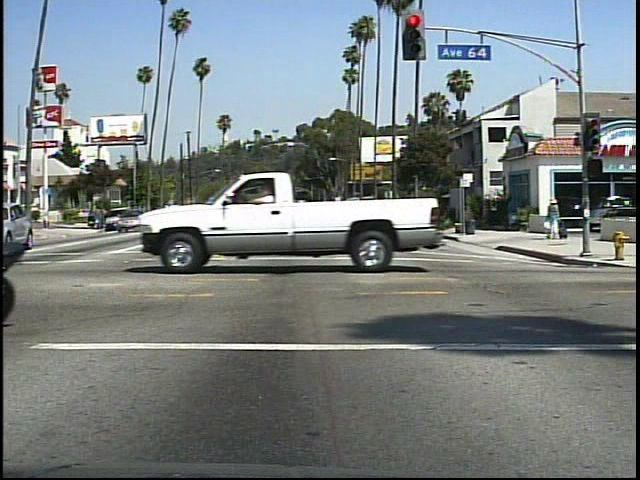person: (541, 194, 566, 245)
